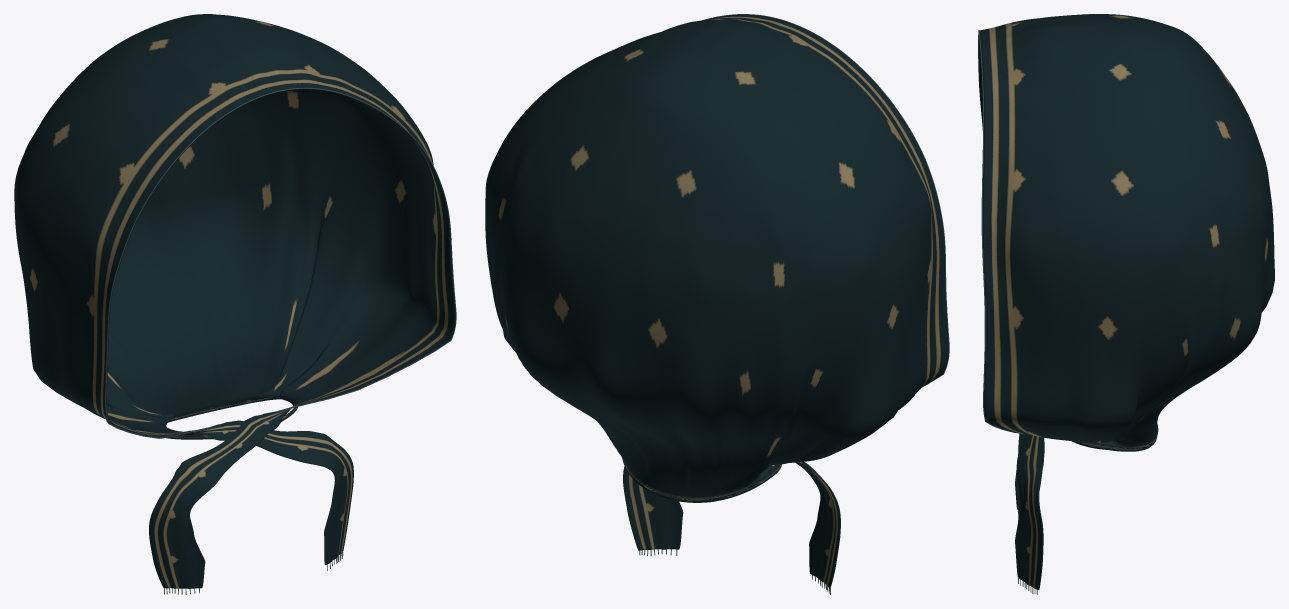
The model's file is Masculine-sidepart-tank-pashmina249-headgear.glb.
The picture shows the model from 3 angles, left to right: view 1: azimuth 30°, elevation 25°; view 2: azimuth 150°, elevation 25°; view 3: azimuth 270°, elevation 25°; orthographic projection. The views are drawn at different scales.
Parts seen in each view (by area): view 1: 226 headgear / Headwear / continuous woven pashmina239, 226 headgear / Headwear / face edge239; view 2: 226 headgear / Headwear / continuous woven pashmina239, 226 headgear / Headwear / face edge239; view 3: 226 headgear / Headwear / continuous woven pashmina239, 226 headgear / Headwear / face edge239.
Part boxes in pixels (x1,y1,x2,y2): 226 headgear / Headwear / continuous woven pashmina239: [14, 14, 455, 588]; 226 headgear / Headwear / face edge239: [105, 87, 456, 438]; 226 headgear / Headwear / continuous woven pashmina239: [485, 14, 948, 588]; 226 headgear / Headwear / face edge239: [701, 14, 949, 387]; 226 headgear / Headwear / continuous woven pashmina239: [978, 14, 1274, 590]; 226 headgear / Headwear / face edge239: [978, 30, 1018, 433].
Bounding box in the file's own units: 1.04 × 1.42 × 0.7321.
3 materials, 1 textured.
